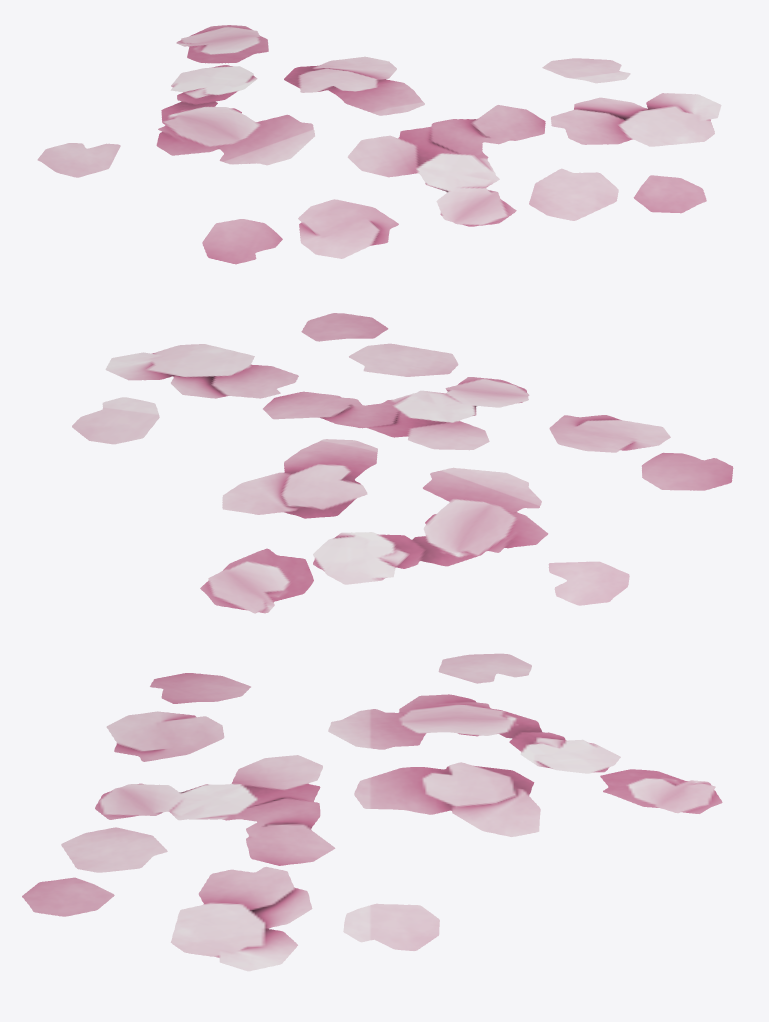
File: SM_Env_CherryBlossom_Small_01.fbx
The picture shows the model from 3 angles, top to bottom: view 1: azimuth 30°, elevation 25°; view 2: azimuth 150°, elevation 25°; view 3: azimuth 270°, elevation 25°; orthographic projection. The views are drawn at different scales.
Visible parts, largest first — view 1: SM_Env_CherryBlossom_Small_01; view 2: SM_Env_CherryBlossom_Small_01; view 3: SM_Env_CherryBlossom_Small_01.
Part boxes in pixels (left/top/right/bottom): SM_Env_CherryBlossom_Small_01: left=37, top=25, right=721, bottom=264; SM_Env_CherryBlossom_Small_01: left=72, top=313, right=733, bottom=613; SM_Env_CherryBlossom_Small_01: left=22, top=653, right=722, bottom=971.
Bounding box in the file's own units: 94.73 × 4.34 × 81.36.
